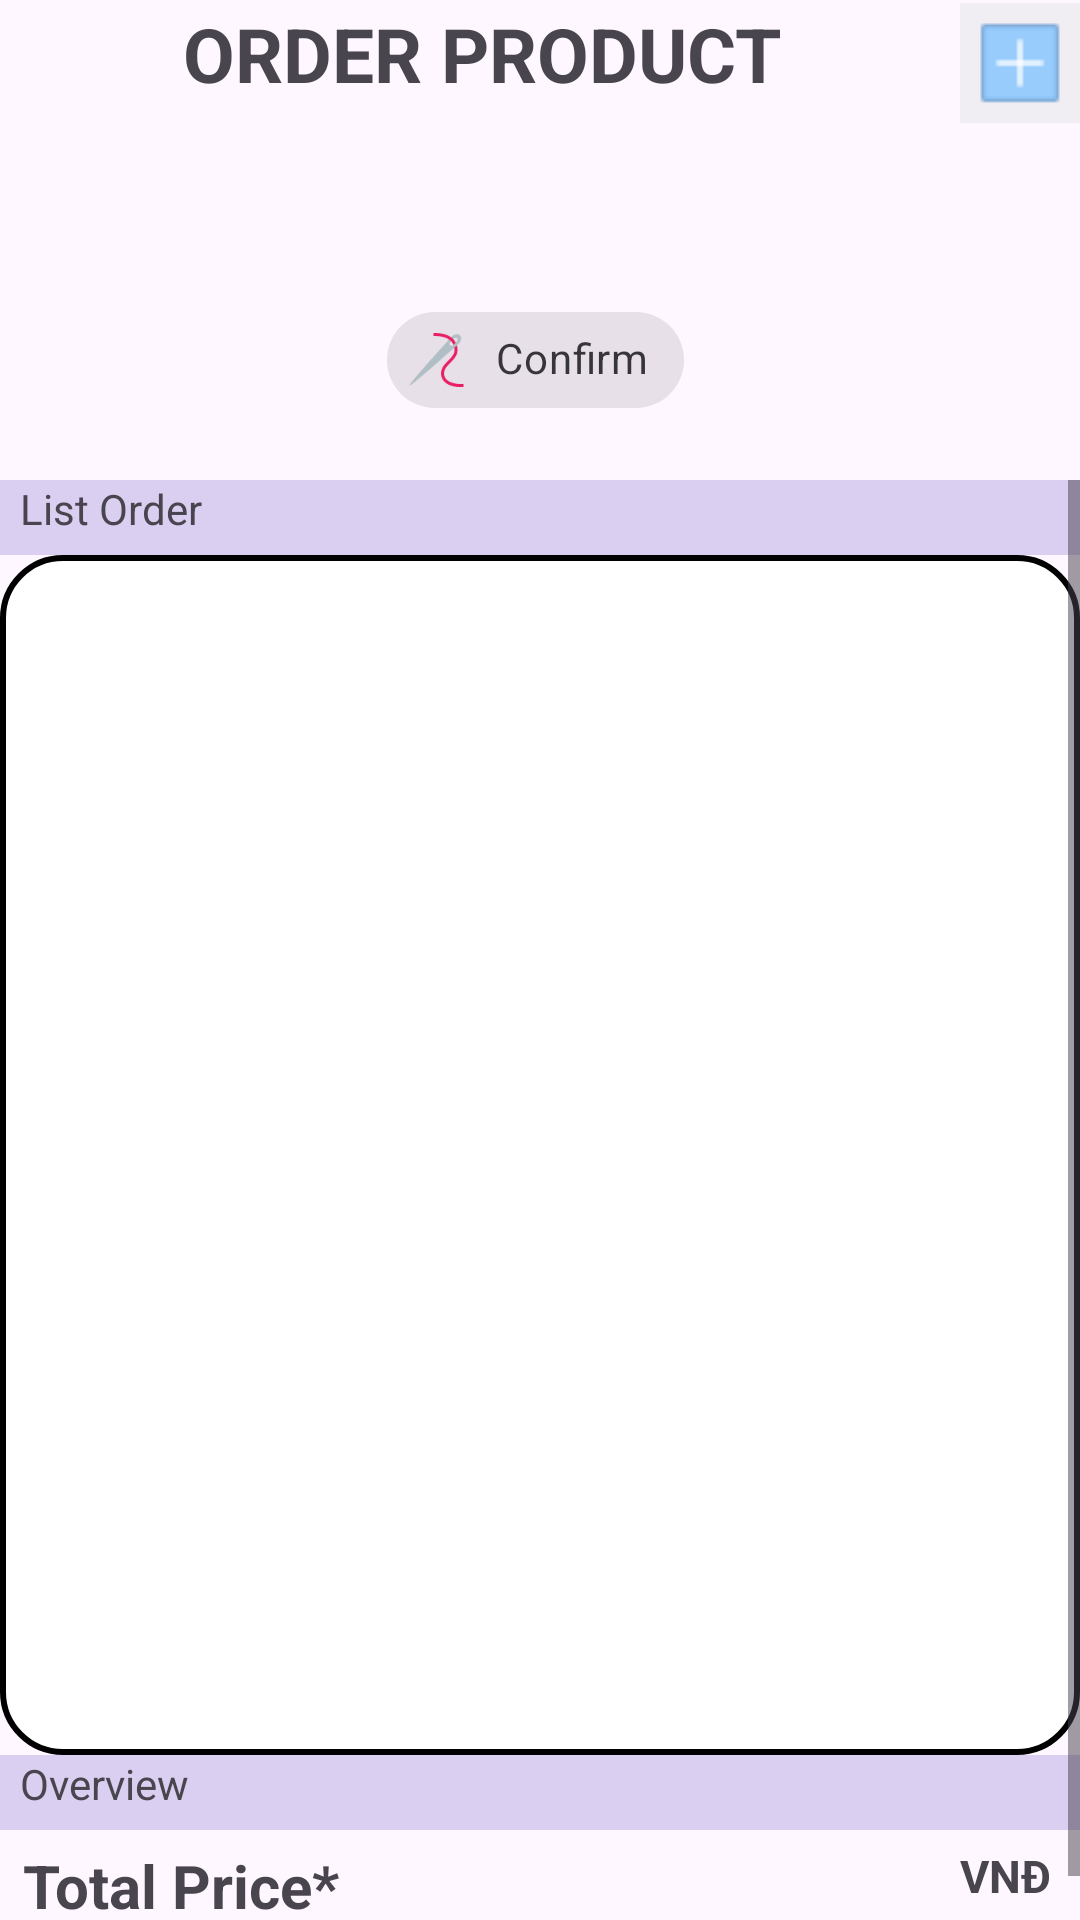

Point at icon controls on the screen. Image size 1080px x 1920px, points as (x,y).
add: (1020,63)
